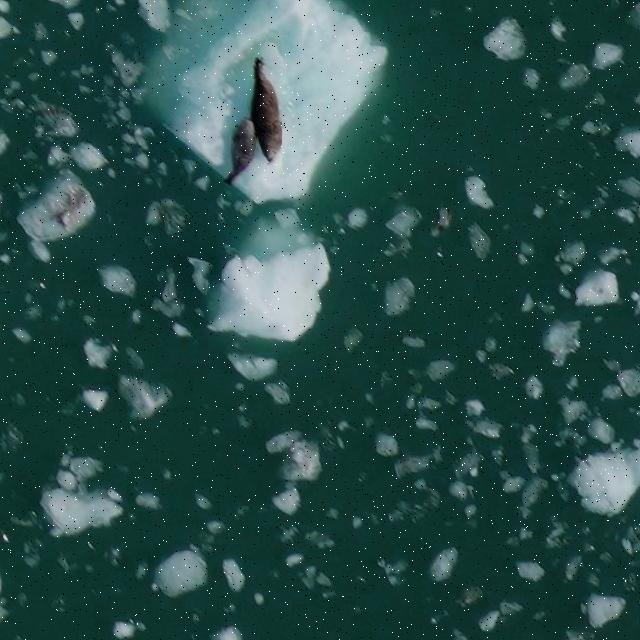seal: (249, 57, 282, 163), (221, 116, 263, 185)
